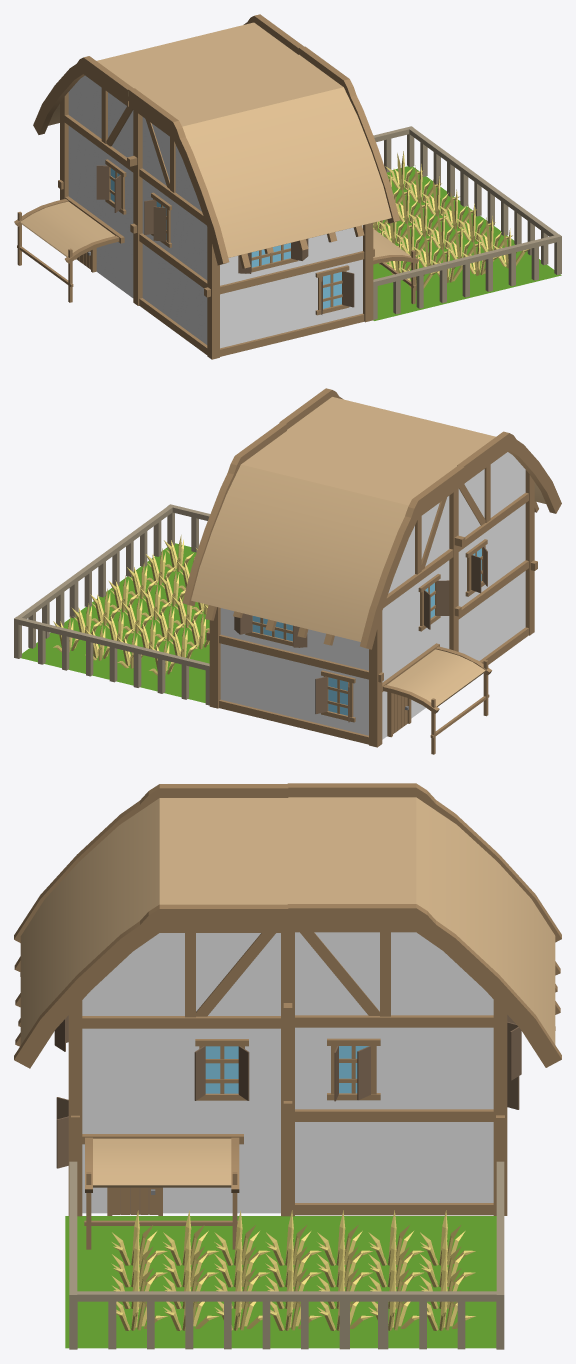
The model's file is farm.fbx.
3 views of the same model, one above another, from view 1: azimuth 30°, elevation 25°; view 2: azimuth 150°, elevation 25°; view 3: azimuth 270°, elevation 25° (orthographic). The views are drawn at different scales.
Parts seen in each view (by area): view 1: Farm; view 2: Farm; view 3: Farm.
Part boxes in pixels (<box>): Farm: <box>14,14,561,359</box>; Farm: <box>14,388,561,754</box>; Farm: <box>14,783,561,1349</box>.
Bounding box in the file's own units: 1309 × 674 × 1067.
